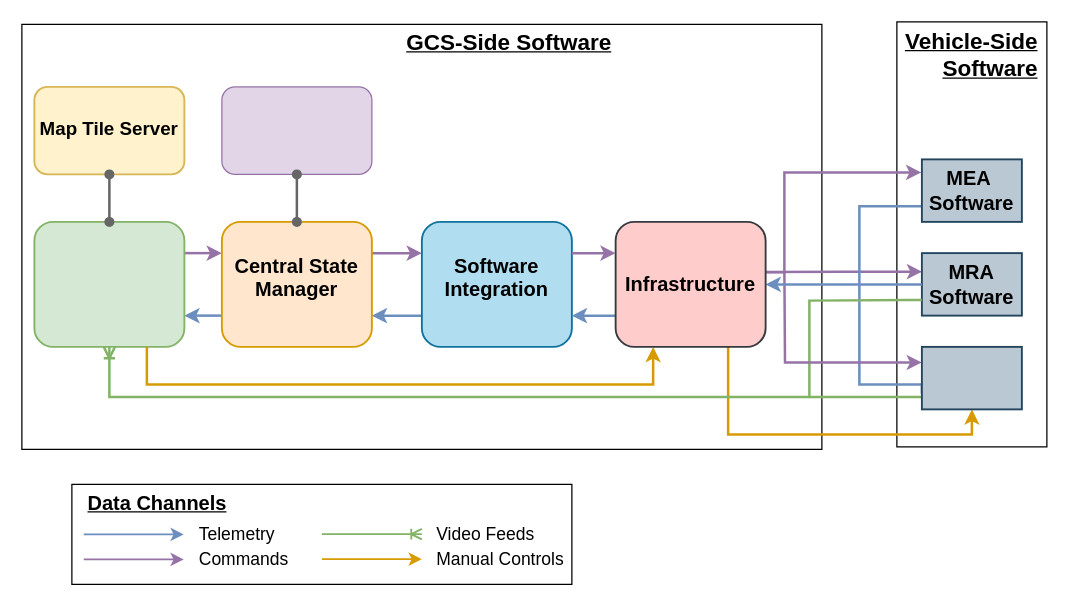
The diagram is 1069 pixels wide and 606 high, and some of its shapes have lost their labels. Here are the shapes that lost their labels. From the top down, the centre of each, then its label:
the point at 296,130: Database
the point at 109,283: User Interface
the point at 971,377: ERU Software
